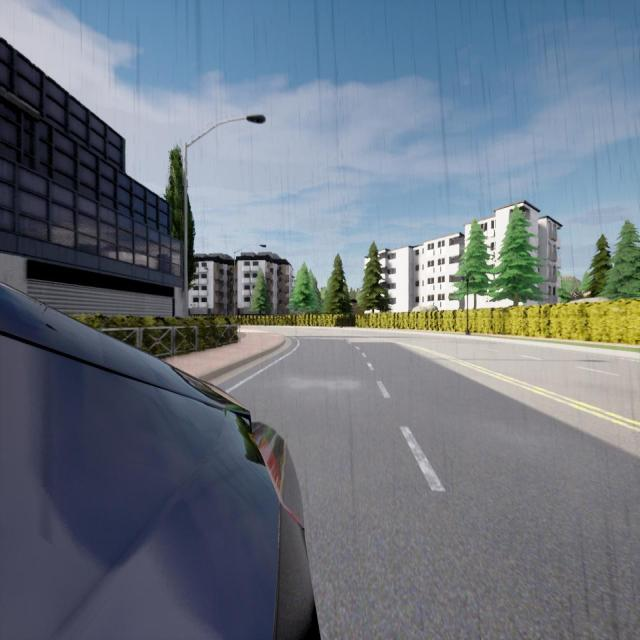Vehicle: (0, 283, 318, 637)
